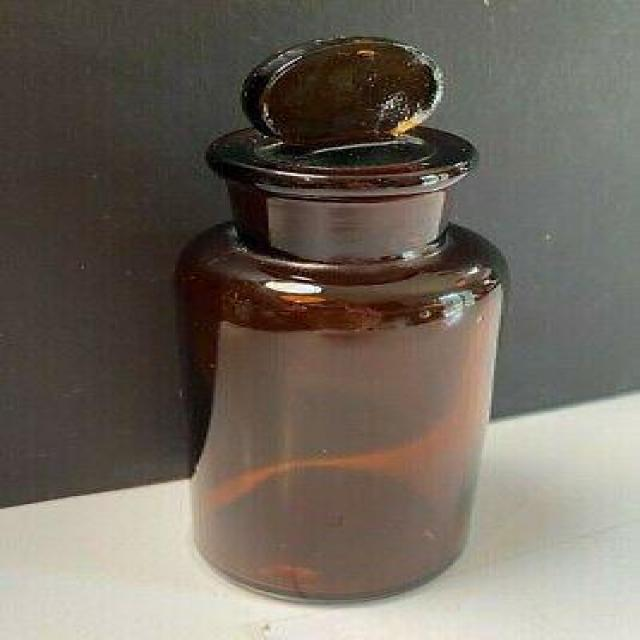non-organic waste: (151, 28, 523, 606)
